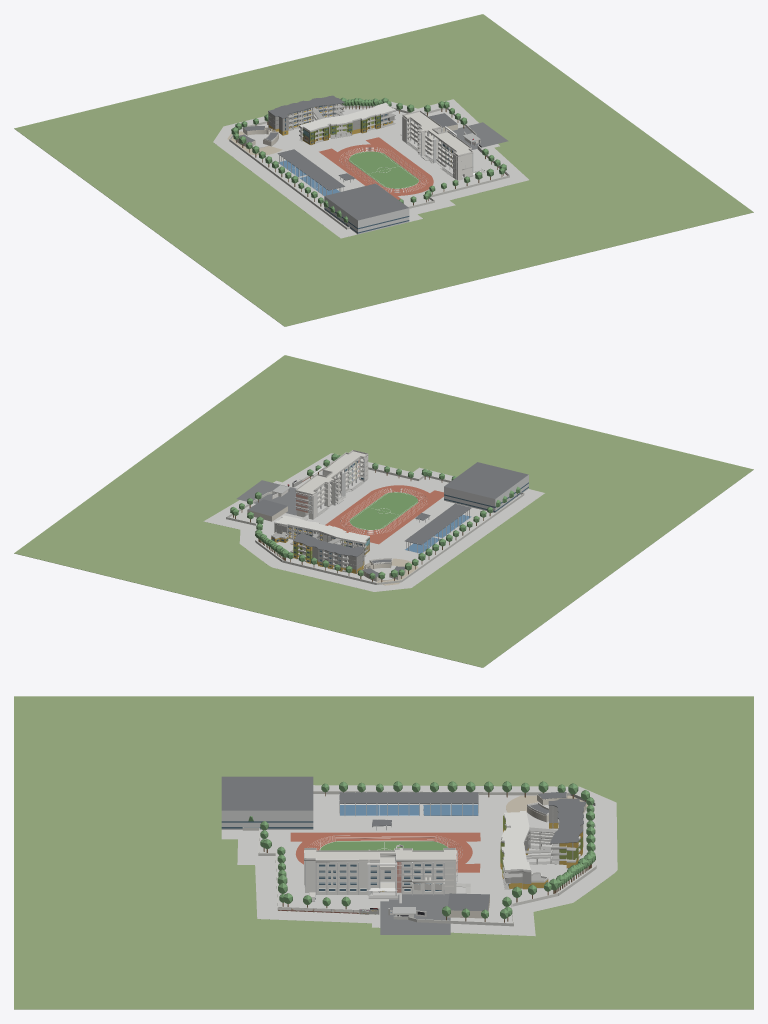
The model's file is ckes_v2.glb.
3 renders of one model, top to bottom at view 1: azimuth 30°, elevation 25°; view 2: azimuth 150°, elevation 25°; view 3: azimuth 270°, elevation 25°, orthographic. The views are drawn at different scales.
Visible parts, largest first — view 1: Ground_Base, Ground_Campus, Road_Ring, BLD_GYM_main, Trees_Canopies, Track_Surface, Track_Field, BLD_BC_Parapets_4F, BLD_COURT_main_Roof, BLD_A_Slab_RF, Road_plaza, BLD_C_upper; view 2: Ground_Base, Ground_Campus, Road_Ring, BLD_GYM_main, Trees_Canopies, Track_Surface, Track_Field, BLD_BC_Parapets_4F, BLD_COURT_main_Roof, Road_plaza, BLD_A_Slab_RF, BLD_C_upper (+3 smaller); view 3: Ground_Base, Ground_Campus, Road_Ring, BLD_GYM_main, Trees_Canopies, Track_Surface, Road_plaza, BLD_COURT_main_Roof, BLD_BC_Parapets_4F, BLD_A_Slab_RF, BLD_C_upper, Track_Field (+11 smaller).
Boxes of the visible parts, x1,y1,x2,y2 form: Ground_Base: [14, 14, 753, 326]; Ground_Campus: [239, 107, 506, 226]; Road_Ring: [213, 99, 529, 238]; BLD_GYM_main: [324, 183, 409, 234]; Trees_Canopies: [231, 97, 506, 222]; Track_Surface: [319, 137, 433, 199]; Track_Field: [349, 151, 418, 188]; BLD_BC_Parapets_4F: [288, 102, 395, 131]; BLD_COURT_main_Roof: [277, 149, 344, 190]; BLD_A_Slab_RF: [402, 112, 472, 156]; Road_plaza: [449, 122, 508, 149]; BLD_C_upper: [268, 95, 344, 118]; Ground_Base: [14, 355, 753, 667]; Ground_Campus: [229, 469, 520, 582]; Road_Ring: [203, 453, 544, 591]; BLD_GYM_main: [444, 462, 528, 512]; Trees_Canopies: [230, 453, 520, 579]; Track_Surface: [325, 485, 443, 544]; Track_Field: [349, 492, 417, 529]; BLD_BC_Parapets_4F: [274, 515, 369, 559]; BLD_COURT_main_Roof: [405, 503, 471, 545]; Road_plaza: [236, 480, 296, 509]; BLD_A_Slab_RF: [295, 451, 367, 495]; BLD_C_upper: [293, 533, 364, 556]; Ground_Base: [14, 696, 753, 1009]; Ground_Campus: [259, 794, 595, 922]; Road_Ring: [221, 785, 617, 936]; BLD_GYM_main: [221, 776, 313, 829]; Trees_Canopies: [248, 781, 595, 919]; Track_Surface: [290, 832, 480, 872]; Road_plaza: [380, 901, 450, 934]; BLD_COURT_main_Roof: [339, 792, 478, 803]; BLD_BC_Parapets_4F: [501, 810, 580, 871]; BLD_A_Slab_RF: [304, 848, 456, 862]; BLD_C_upper: [548, 798, 583, 843]; Track_Field: [320, 841, 447, 850].
Size of the model in its own units: 420 by 24.5 by 420.
Materials: 66 (1 with a texture image).
